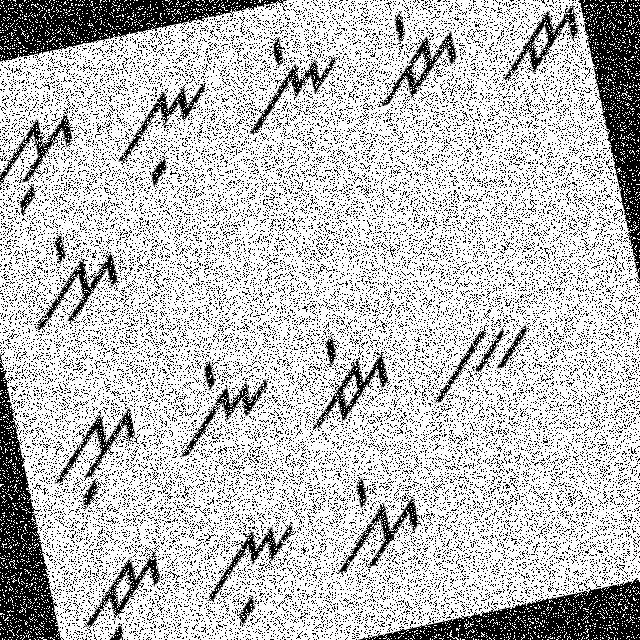ja: (483, 0, 588, 86)
je: (284, 312, 402, 442), (361, 0, 475, 118)
ju: (71, 542, 188, 639)
nye: (151, 338, 287, 470), (224, 16, 354, 140)
nyu: (95, 75, 229, 195), (192, 509, 316, 634)
se: (8, 216, 132, 340), (316, 456, 438, 580)
su: (33, 395, 158, 516), (0, 97, 96, 220)
